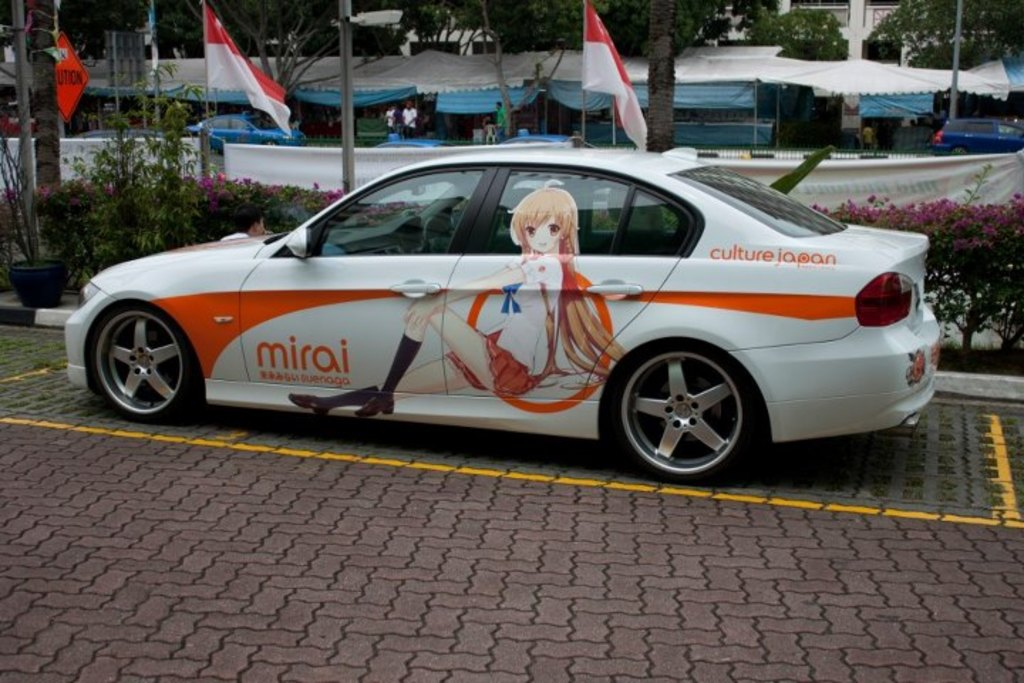person: (286, 183, 624, 416)
